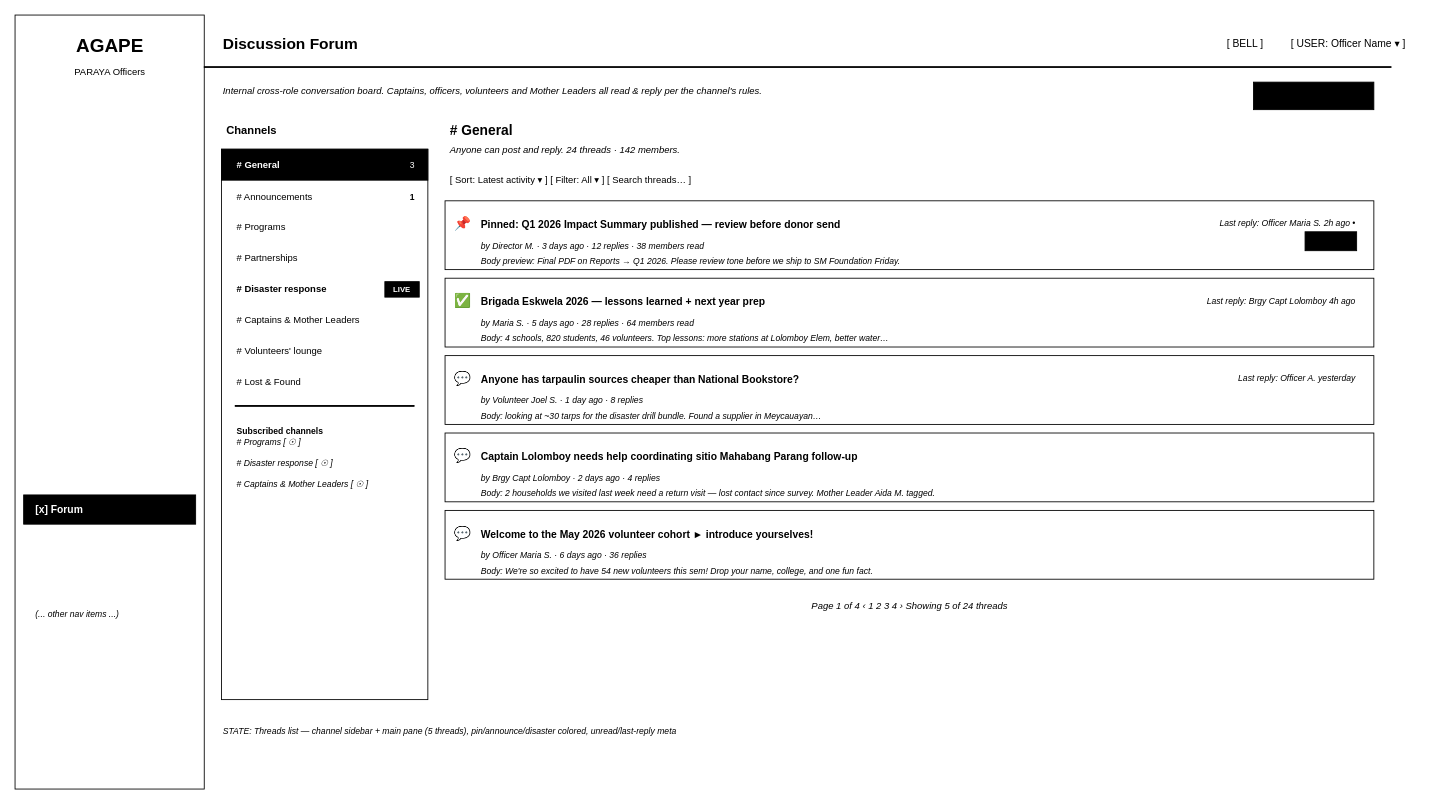
The diagram is 1441 pixels wide and 804 high, and some of its shapes have lost their labels. The shapes that lost their labels are listed below. From the top down, each one's centre as x and y in pixels, then its label:
the point at 1313,95: [ + New thread ]
the point at 1330,241: 6 unread
